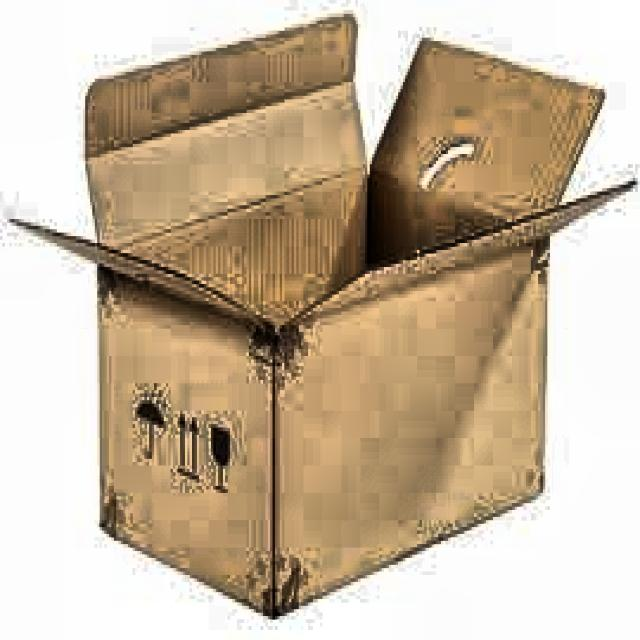Cardbox: (7, 7, 640, 617)
